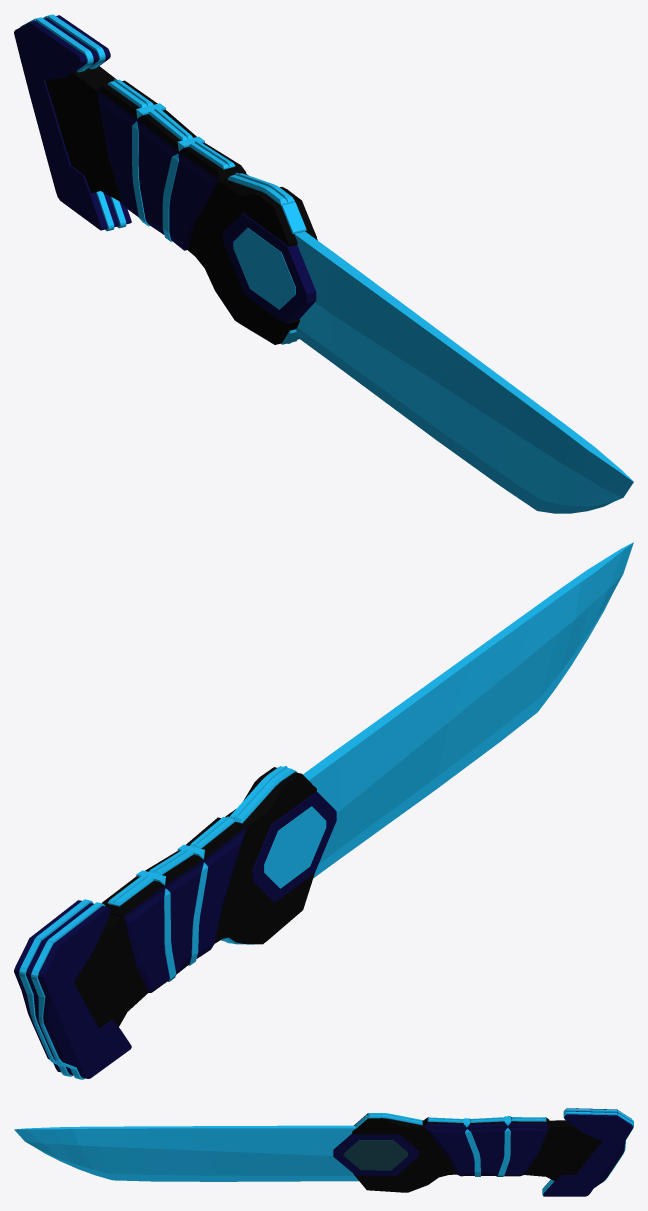
The model's file is sc_fi_melee_weapon_sci_fi_knife.glb.
3 renders of one model, top to bottom at view 1: azimuth 30°, elevation 25°; view 2: azimuth 150°, elevation 25°; view 3: azimuth 270°, elevation 25°, orthographic. The views are drawn at different scales.
Parts seen in each view (by area): view 1: Cube.005; view 2: Cube.005; view 3: Cube.005.
Part boxes in pixels (box(x1,y1,x2,y2)): Cube.005: box(14, 14, 633, 513); Cube.005: box(14, 542, 633, 1079); Cube.005: box(14, 1108, 633, 1196).
Size of the model in its own units: 0.0665 by 0.3151 by 2.13.
